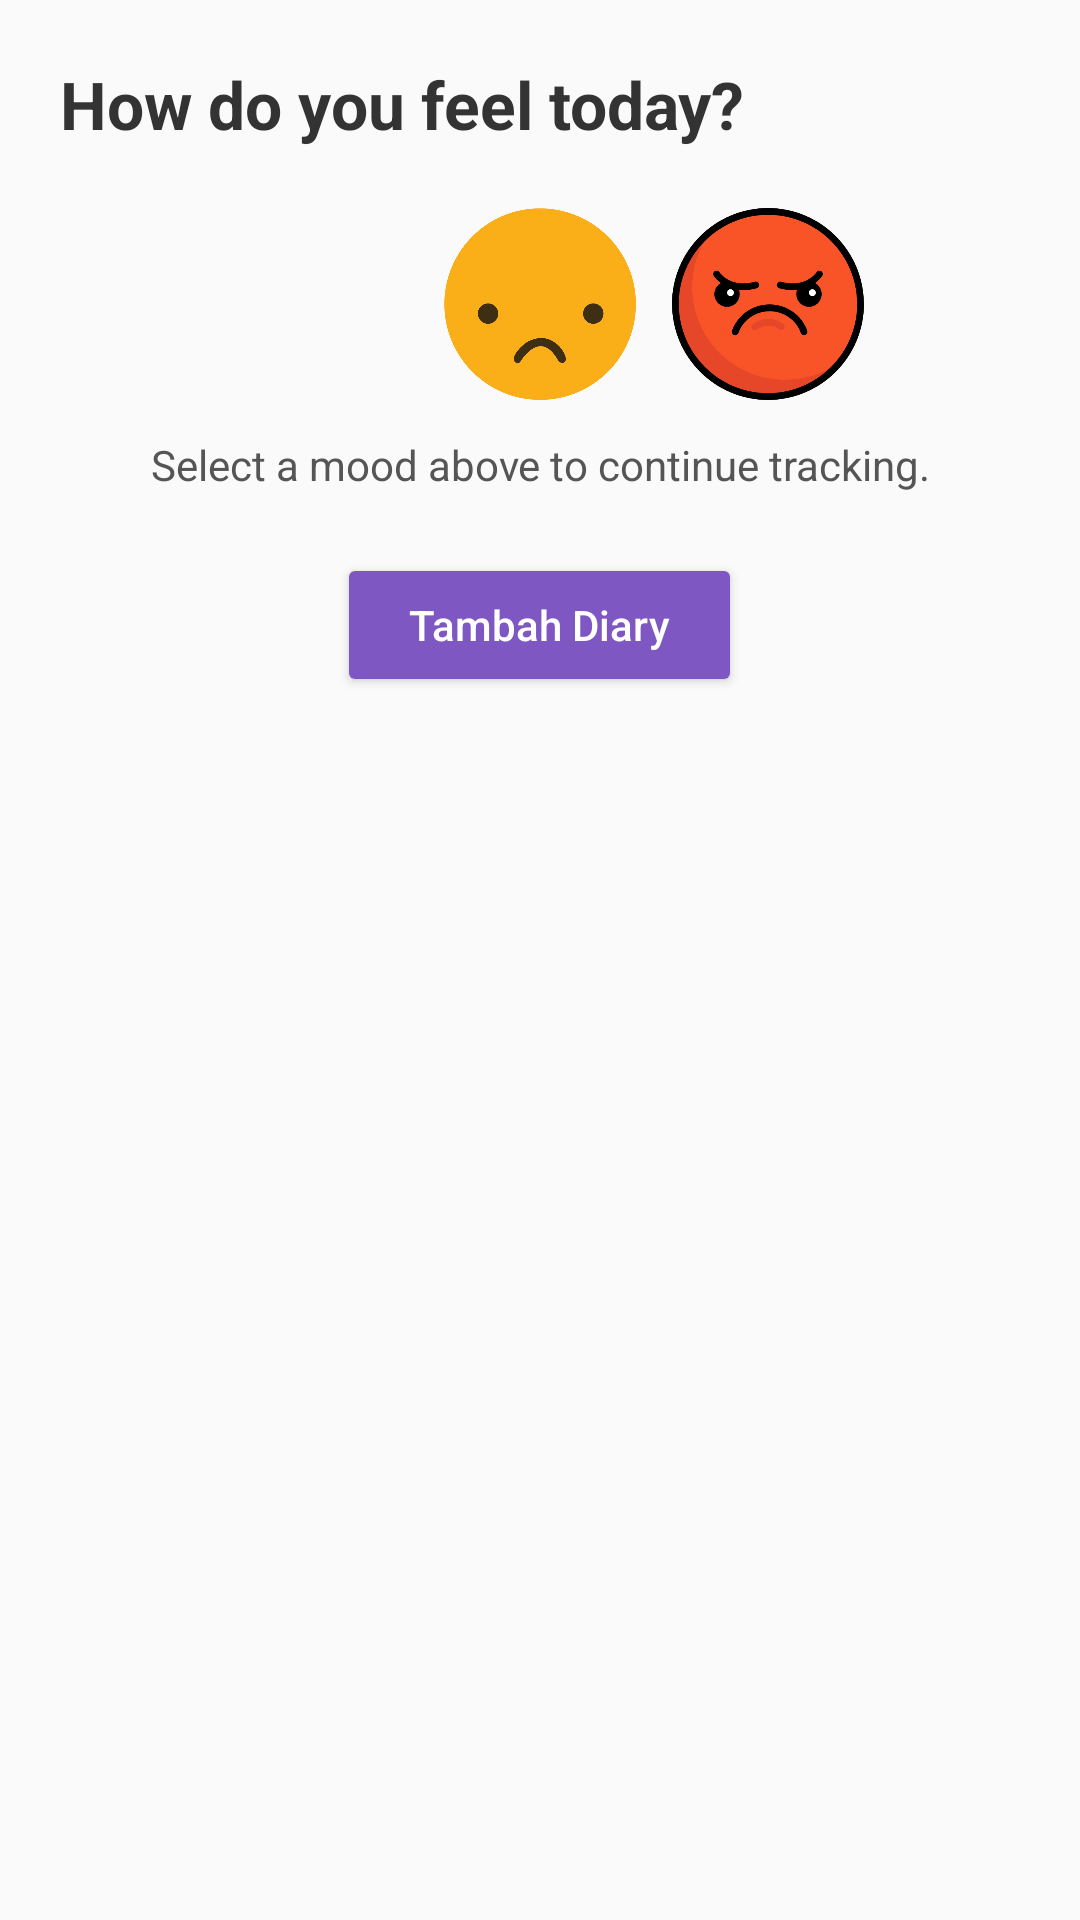

Screen size 1080 × 1920. Icon name, then its center in pixels as [x,y]:
Angry: [768,304]
Sad: [540,304]
